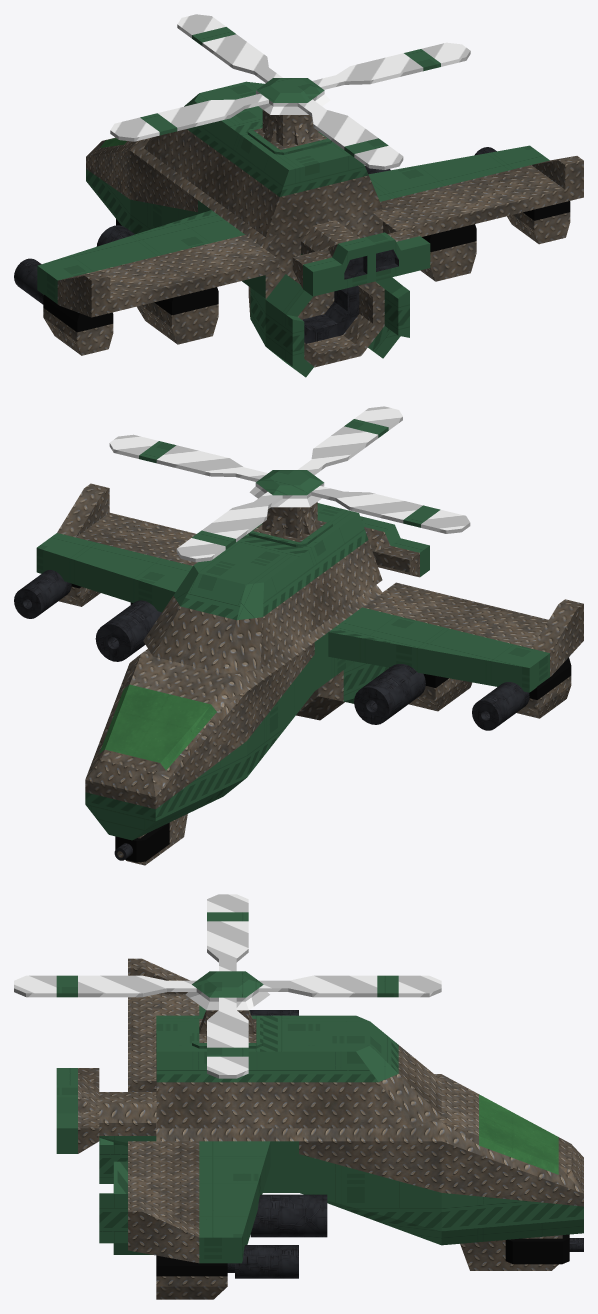
Rendered from heli.glb.
3 views of the same model, one above another, from view 1: azimuth 30°, elevation 25°; view 2: azimuth 150°, elevation 25°; view 3: azimuth 270°, elevation 25° (orthographic). The views are drawn at different scales.
Parts seen in each view (by area): view 1: mergedBlocks(Clone); view 2: mergedBlocks(Clone); view 3: mergedBlocks(Clone).
Boxes of the visible parts, x1,y1,x2,y2 form: mergedBlocks(Clone): (14, 14, 583, 377); mergedBlocks(Clone): (14, 406, 583, 865); mergedBlocks(Clone): (14, 894, 583, 1299).
Bounding box in the file's own units: 4.21 × 2.22 × 4.
6 materials, 5 textured.
